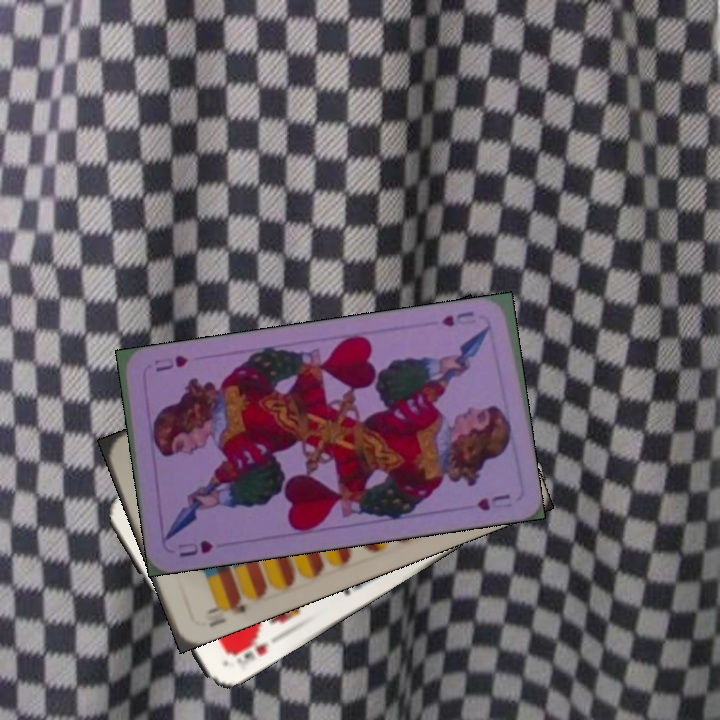E10: (202, 592, 249, 617)
HK: (223, 632, 272, 673)
HU: (437, 307, 490, 331), (174, 535, 216, 560)
